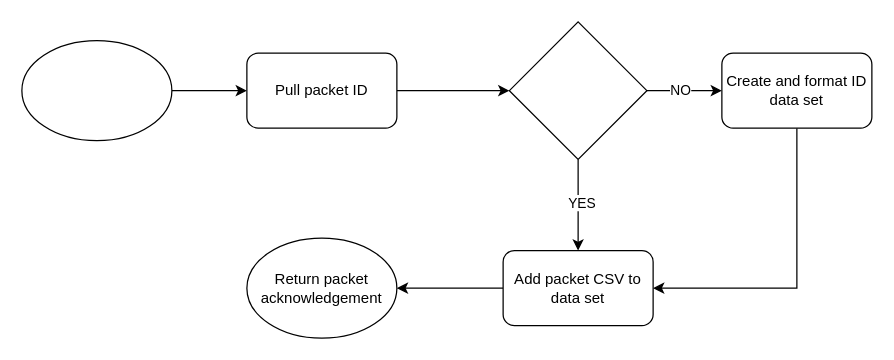
This 894x360 diagram has some shape labels left out. The box of each missing label's shape, as (x1, y1, x2, y2) in pixels:
does ID exist: (508, 21, 647, 159)
Receive packet: (21, 39, 172, 141)
